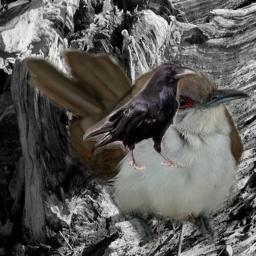Crow: (83, 61, 197, 170)
Cuckoo: (23, 48, 253, 253)
